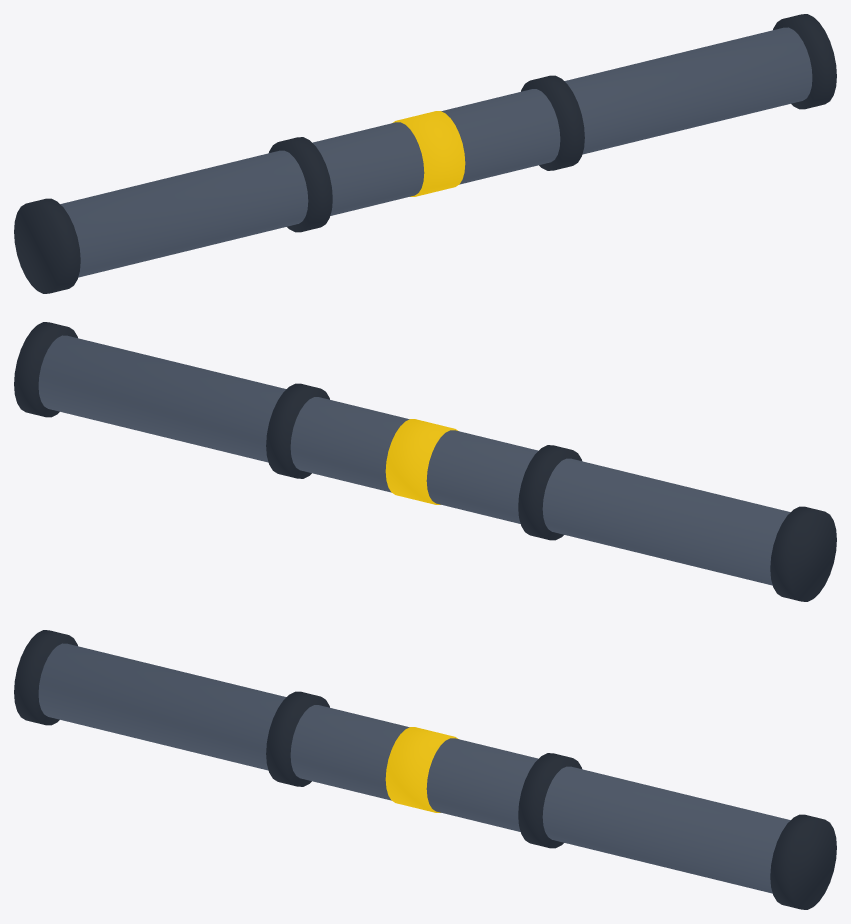
File: tuberia_recta.glb
The picture shows the model from 3 angles, top to bottom: view 1: azimuth 30°, elevation 25°; view 2: azimuth 150°, elevation 25°; view 3: azimuth 330°, elevation 25°; orthographic projection.
Visible parts, largest first — view 1: Cylinder.005, Cylinder.006, Cylinder.010, Cylinder.009, Cylinder.008, Cylinder.007; view 2: Cylinder.005, Cylinder.006, Cylinder.010, Cylinder.009, Cylinder.008, Cylinder.007; view 3: Cylinder.005, Cylinder.009, Cylinder.010, Cylinder.006, Cylinder.007, Cylinder.008.
Part boxes in pixels (left/top/right/bottom): Cylinder.005: left=60, top=27, right=812, bottom=277; Cylinder.006: left=14, top=198, right=80, bottom=293; Cylinder.010: left=393, top=111, right=465, bottom=196; Cylinder.009: left=773, top=14, right=836, bottom=109; Cylinder.008: left=521, top=75, right=584, bottom=170; Cylinder.007: left=269, top=137, right=332, bottom=232; Cylinder.005: left=38, top=335, right=790, bottom=585; Cylinder.006: left=770, top=506, right=836, bottom=601; Cylinder.010: left=385, top=419, right=457, bottom=504; Cylinder.009: left=14, top=322, right=77, bottom=417; Cylinder.008: left=266, top=383, right=329, bottom=478; Cylinder.007: left=518, top=445, right=581, bottom=540; Cylinder.005: left=38, top=643, right=790, bottom=893; Cylinder.009: left=770, top=814, right=836, bottom=909; Cylinder.010: left=385, top=727, right=457, bottom=812; Cylinder.006: left=14, top=630, right=77, bottom=725; Cylinder.007: left=266, top=691, right=329, bottom=786; Cylinder.008: left=518, top=753, right=581, bottom=848.
Size of the model in its own units: 3.08 by 0.32 by 0.32.
